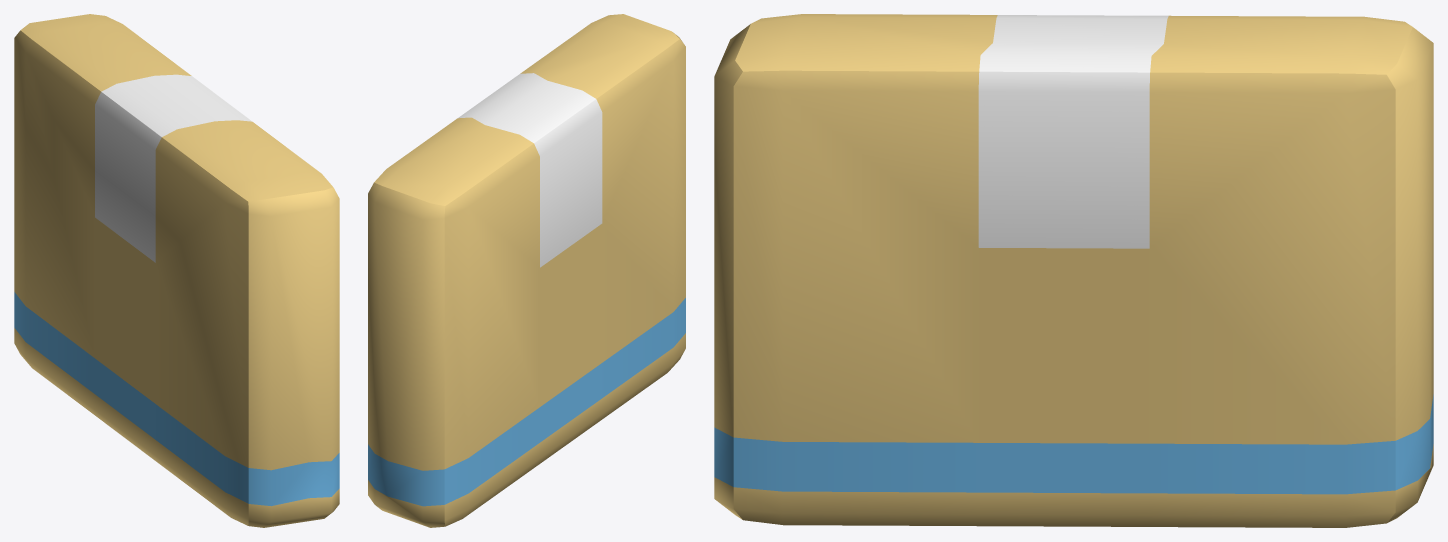
Rendered from Props_Box_Blue_05.fbx.
3 views of the same model, side by side, from view 1: azimuth 30°, elevation 25°; view 2: azimuth 150°, elevation 25°; view 3: azimuth 270°, elevation 25° (orthographic). The views are drawn at different scales.
Parts seen in each view (by area): view 1: Props_Box_Blue_05; view 2: Props_Box_Blue_05; view 3: Props_Box_Blue_05.
Boxes of the visible parts, x1,y1,x2,y2 form: Props_Box_Blue_05: (14, 14, 339, 527); Props_Box_Blue_05: (368, 14, 685, 527); Props_Box_Blue_05: (714, 14, 1433, 527).
Size of the model in its own units: 11.93 by 38.37 by 53.48.
